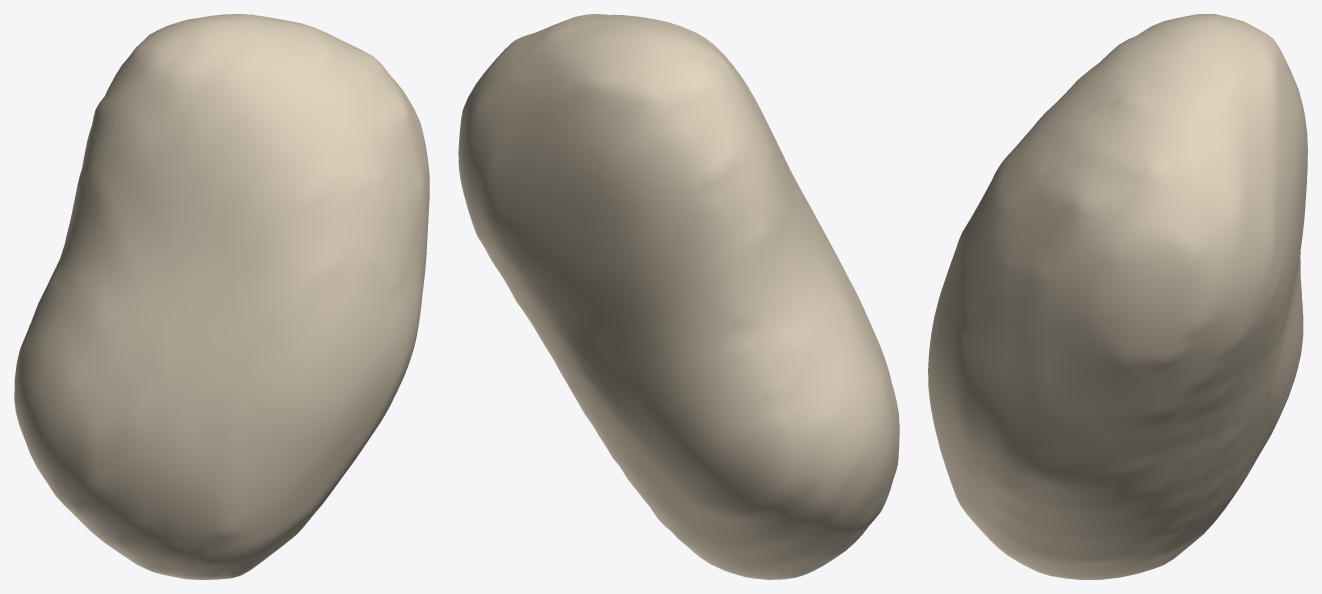
The model's file is sand-atlas-caicos-ooid-80.glb.
The picture shows the model from 3 angles, left to right: view 1: azimuth 30°, elevation 25°; view 2: azimuth 150°, elevation 25°; view 3: azimuth 270°, elevation 25°; orthographic projection. The views are drawn at different scales.
Visible parts, largest first — view 1: Scanned sand grain; view 2: Scanned sand grain; view 3: Scanned sand grain.
Part boxes in pixels (bbox=[...]): Scanned sand grain: bbox=[14, 14, 429, 579]; Scanned sand grain: bbox=[458, 14, 899, 579]; Scanned sand grain: bbox=[928, 14, 1307, 579].
Bounding box in the file's own units: 0.00045 × 0.000573 × 0.000338.
